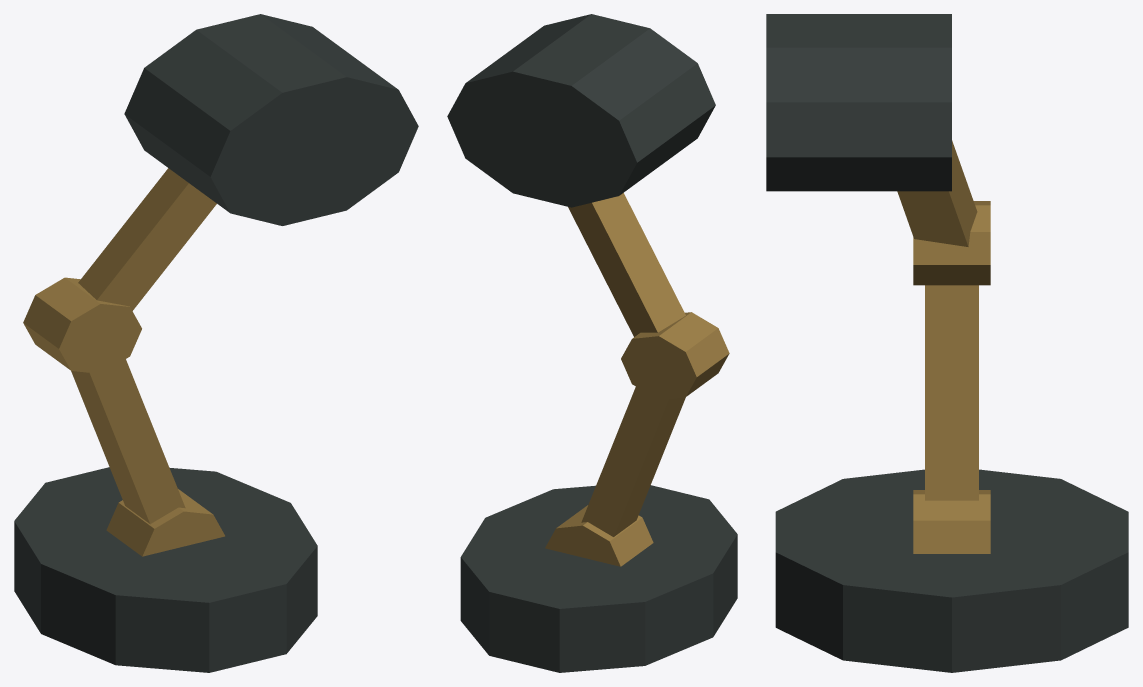
File: FRM_021_H_LODs.fbx
3 renders of one model, left to right at view 1: azimuth 30°, elevation 25°; view 2: azimuth 150°, elevation 25°; view 3: azimuth 270°, elevation 25°, orthographic. The views are drawn at different scales.
Parts seen in each view (by area): view 1: FRM_021_H_LOD0; view 2: FRM_021_H_LOD0; view 3: FRM_021_H_LOD0.
Part boxes in pixels (x1,y1,x2,y2): FRM_021_H_LOD0: (14,14,418,672); FRM_021_H_LOD0: (447,14,737,672); FRM_021_H_LOD0: (766,14,1128,672).
Size of what is drawn, in the model's own units: 0.35 by 0.65 by 0.35.
